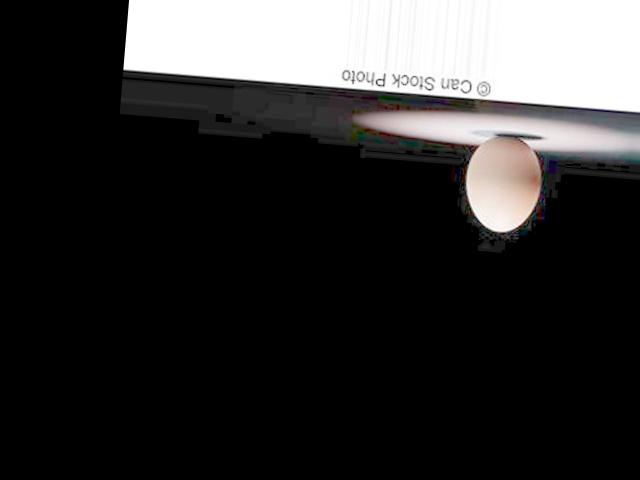egg: (461, 131, 546, 234)
